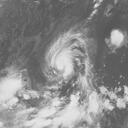cyclone: (44, 32, 93, 80)
